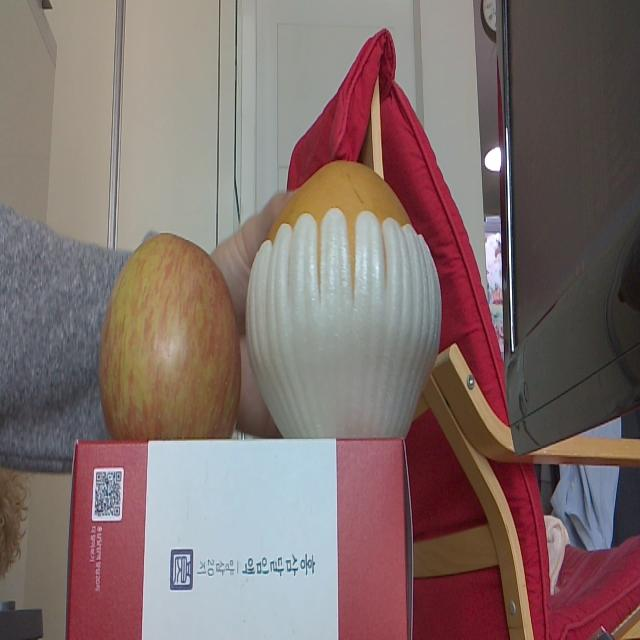apple: (100, 233, 242, 442)
pear: (246, 162, 442, 437)
